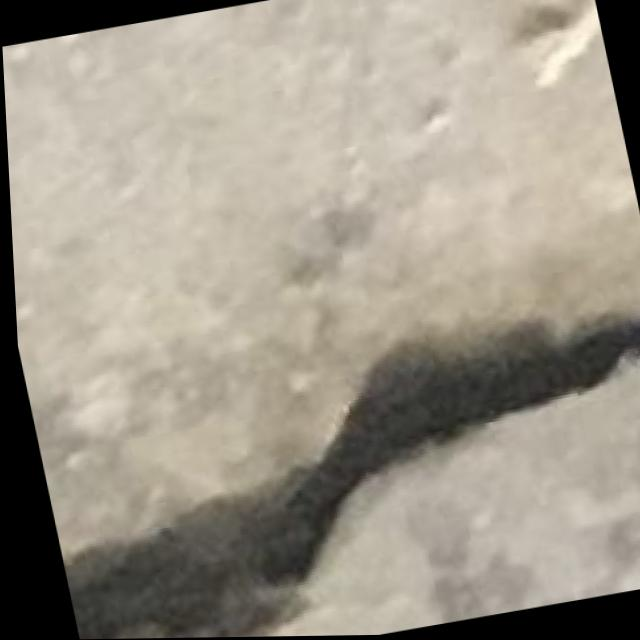Crack: (48, 276, 640, 640)
